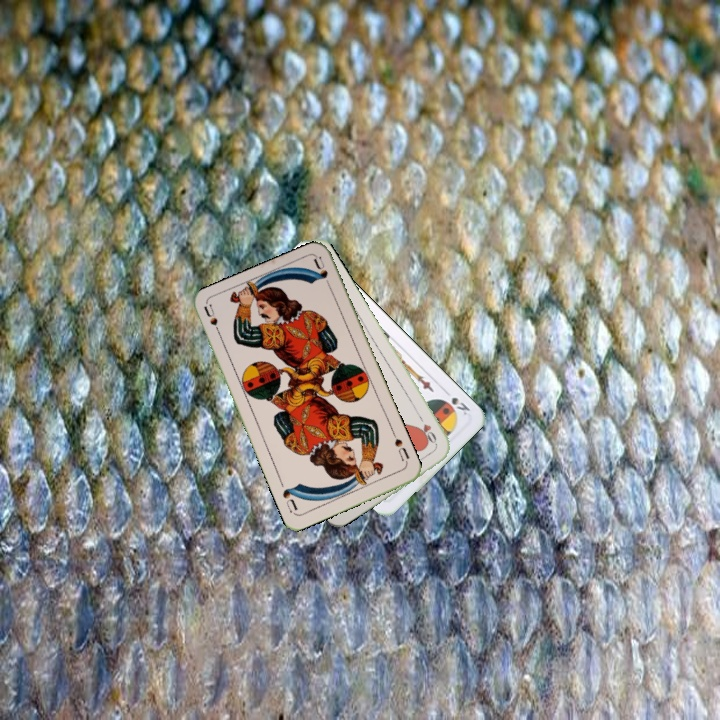HO: (415, 412, 440, 449)
SK: (447, 393, 473, 418)
SU: (200, 301, 225, 341), (388, 428, 412, 467)
